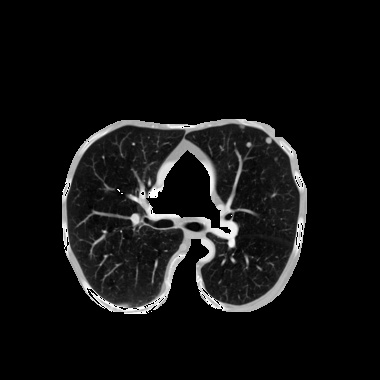PN: (246, 141, 252, 147)
